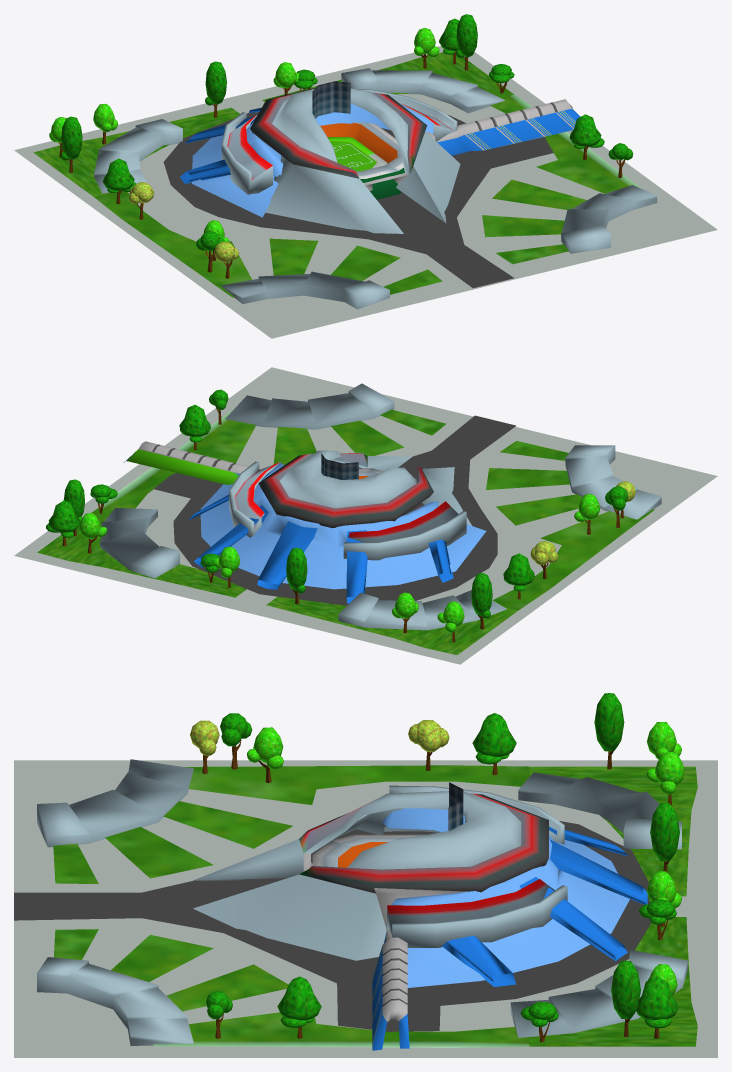
File: sportshub_LV1.fbx
3 views of the same model, one above another, from view 1: azimuth 30°, elevation 25°; view 2: azimuth 150°, elevation 25°; view 3: azimuth 270°, elevation 25° (orthographic). The views are drawn at different scales.
Parts seen in each view (by area): view 1: stadium 1; view 2: stadium 1; view 3: stadium 1.
Boxes of the visible parts, x1,y1,x2,y2 form: stadium 1: [14, 14, 717, 338]; stadium 1: [14, 367, 717, 664]; stadium 1: [14, 693, 717, 1057].
Bounding box in the file's own units: 202 × 35.87 × 200.
